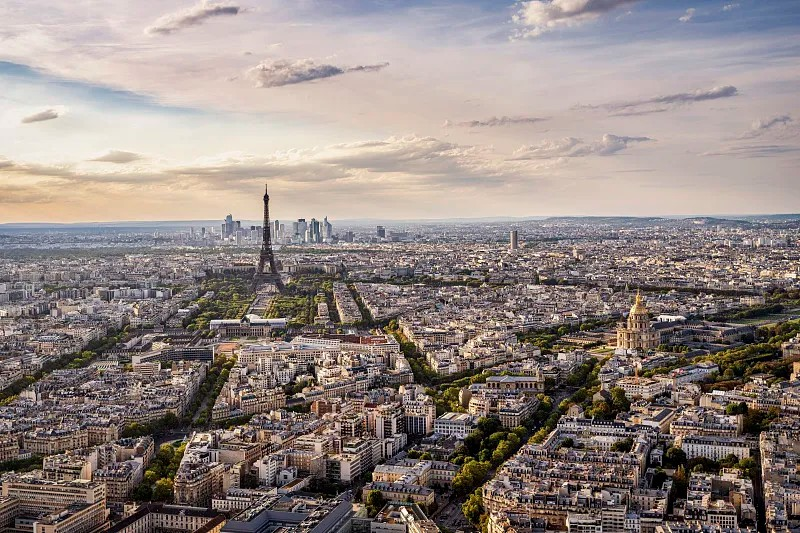Eiffel: (250, 183, 287, 298)
